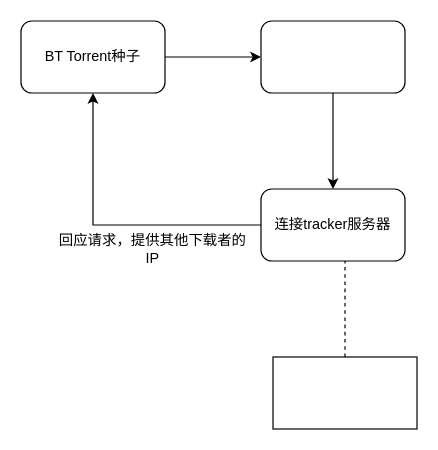
The diagram is 438 pixels wide and 450 high, and some of its shapes have lost their labels. The centre of each missing label's shape, as x and y in pixels:
"PT就是私有连接，必须通过passkey验证" belongs at pixel 344 392.
"得到tracker地址" belongs at pixel 332 56.
